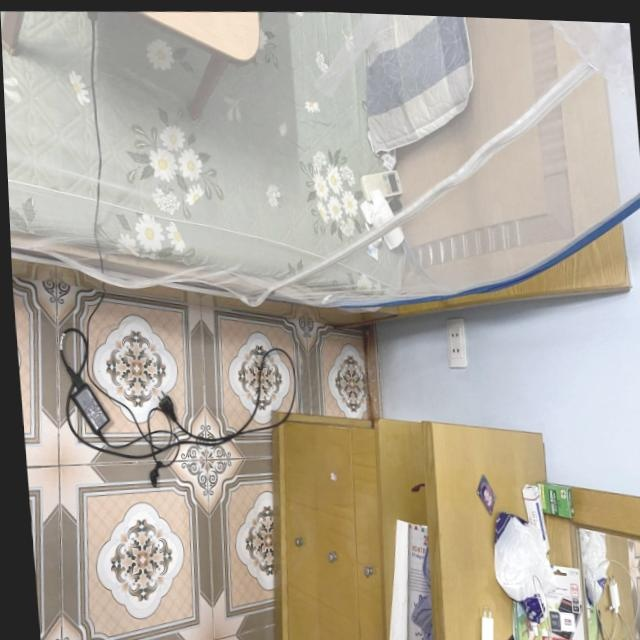outlet: (444, 317, 467, 369)
